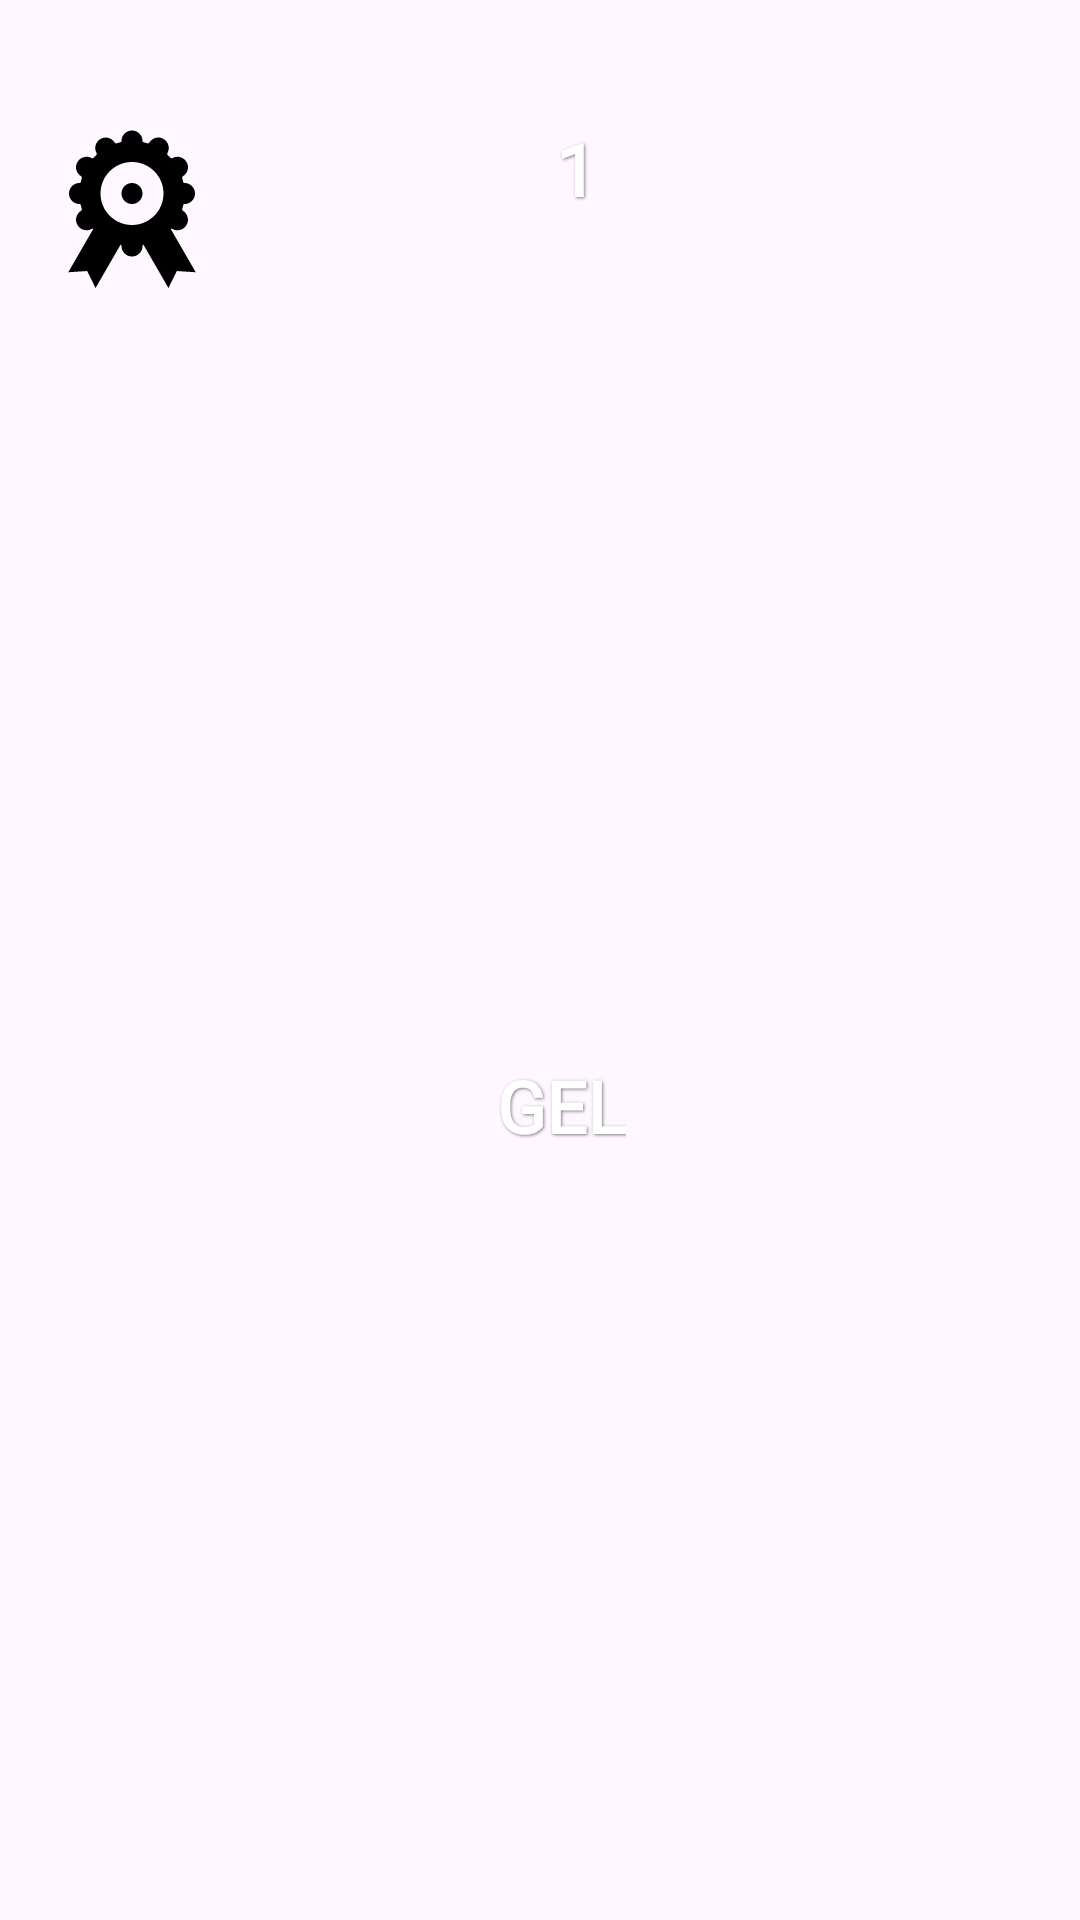

Icon click points for this 1080 x 1920 phone screenshot, format [x,y]:
license: [132,209]
